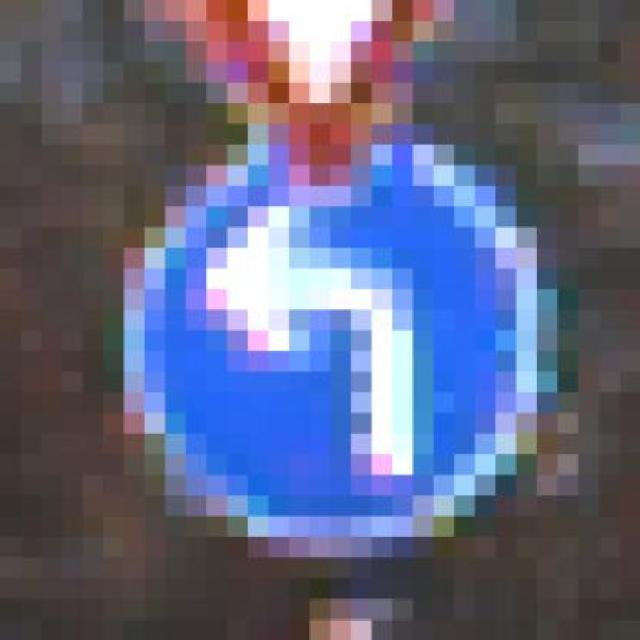Turn left ahead: (82, 82, 558, 558)
